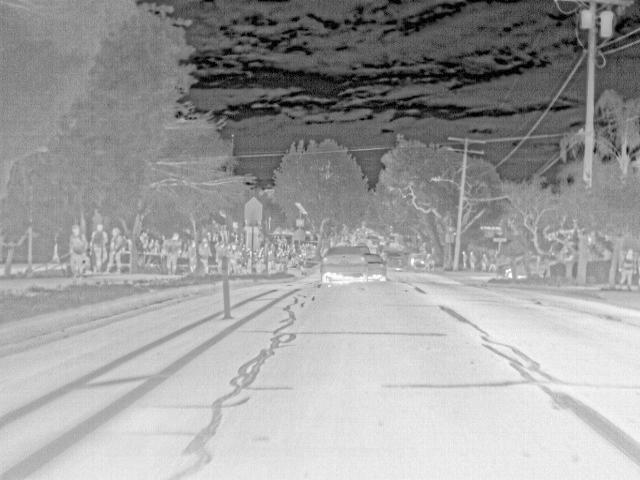car: (321, 245, 367, 281), (368, 252, 387, 280), (386, 249, 404, 271), (410, 250, 428, 270), (515, 256, 527, 277), (498, 264, 512, 280), (371, 234, 382, 245), (357, 245, 370, 254)
person: (69, 224, 86, 277), (91, 223, 109, 271), (107, 226, 125, 274), (163, 230, 182, 271), (619, 248, 637, 290), (197, 236, 213, 278), (212, 238, 225, 275), (185, 238, 198, 273), (229, 241, 242, 276), (240, 244, 253, 274), (262, 246, 275, 274), (254, 248, 266, 274), (273, 248, 285, 274), (479, 251, 491, 273), (468, 249, 477, 270), (426, 250, 435, 270), (461, 249, 469, 271)
